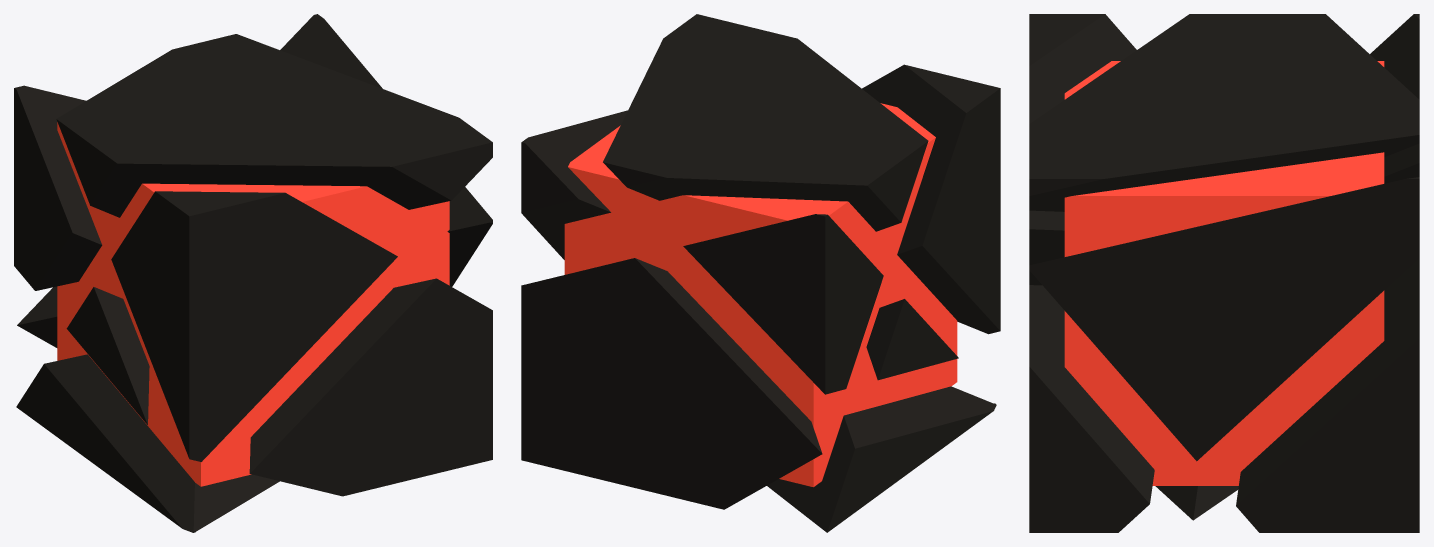
The model's file is block.glb.
3 renders of one model, left to right at view 1: azimuth 30°, elevation 25°; view 2: azimuth 150°, elevation 25°; view 3: azimuth 270°, elevation 25°, orthographic. The views are drawn at different scales.
Visible parts, largest first — view 1: Cube, Cube.001; view 2: Cube, Cube.001; view 3: Cube, Cube.001.
Boxes of the visible parts, x1,y1,x2,y2 form: Cube: (14,14,492,532); Cube.001: (57,122,449,486); Cube: (521,14,1000,532); Cube.001: (564,103,957,487); Cube: (1029,14,1419,532); Cube.001: (1064,61,1384,485).
Size of the model in its own units: 2 by 2 by 2.
